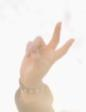front: (18, 18, 78, 87)
